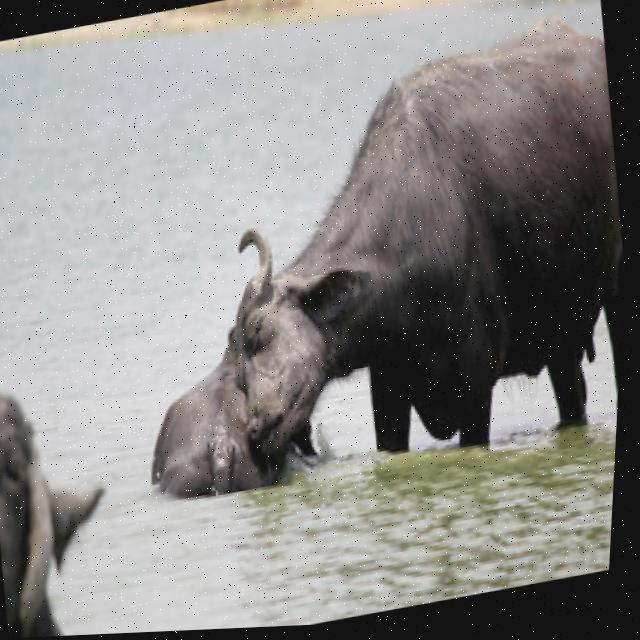Buffalo: (183, 0, 639, 491)
